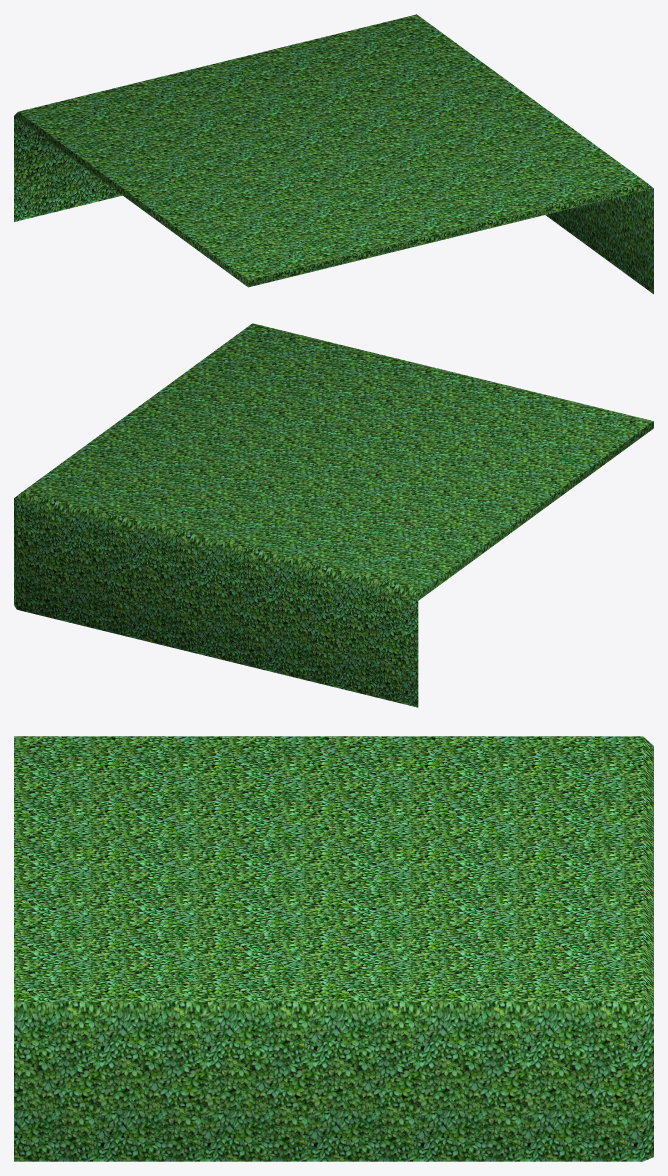
The model's file is Hedge02b.FBX.
3 renders of one model, top to bottom at view 1: azimuth 30°, elevation 25°; view 2: azimuth 150°, elevation 25°; view 3: azimuth 270°, elevation 25°, orthographic. The views are drawn at different scales.
Visible parts, largest first — view 1: Hedge02b; view 2: Hedge02b; view 3: Hedge02b.
Boxes of the visible parts, x1,y1,x2,y2 form: Hedge02b: (14,14,653,294); Hedge02b: (14,323,653,707); Hedge02b: (14,736,653,1161).
Size of the model in its own units: 300 by 80 by 300.
Materials: 1 (1 with a texture image).
